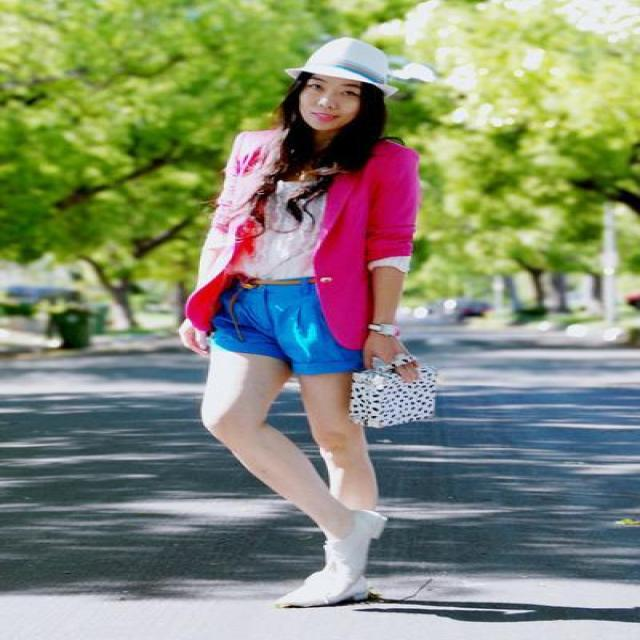bag: (351, 354, 434, 423)
hat: (288, 38, 400, 86)
jacket: (179, 129, 426, 345)
shirt: (250, 170, 324, 280)
shoe: (288, 507, 389, 612)
shorts: (211, 276, 363, 382)
